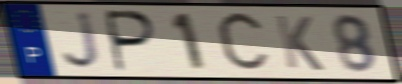1: (171, 11, 209, 73)
8: (331, 12, 377, 75)
C: (214, 9, 273, 77)
J: (60, 10, 105, 72)
K: (272, 13, 327, 73)
P: (105, 8, 160, 74)
